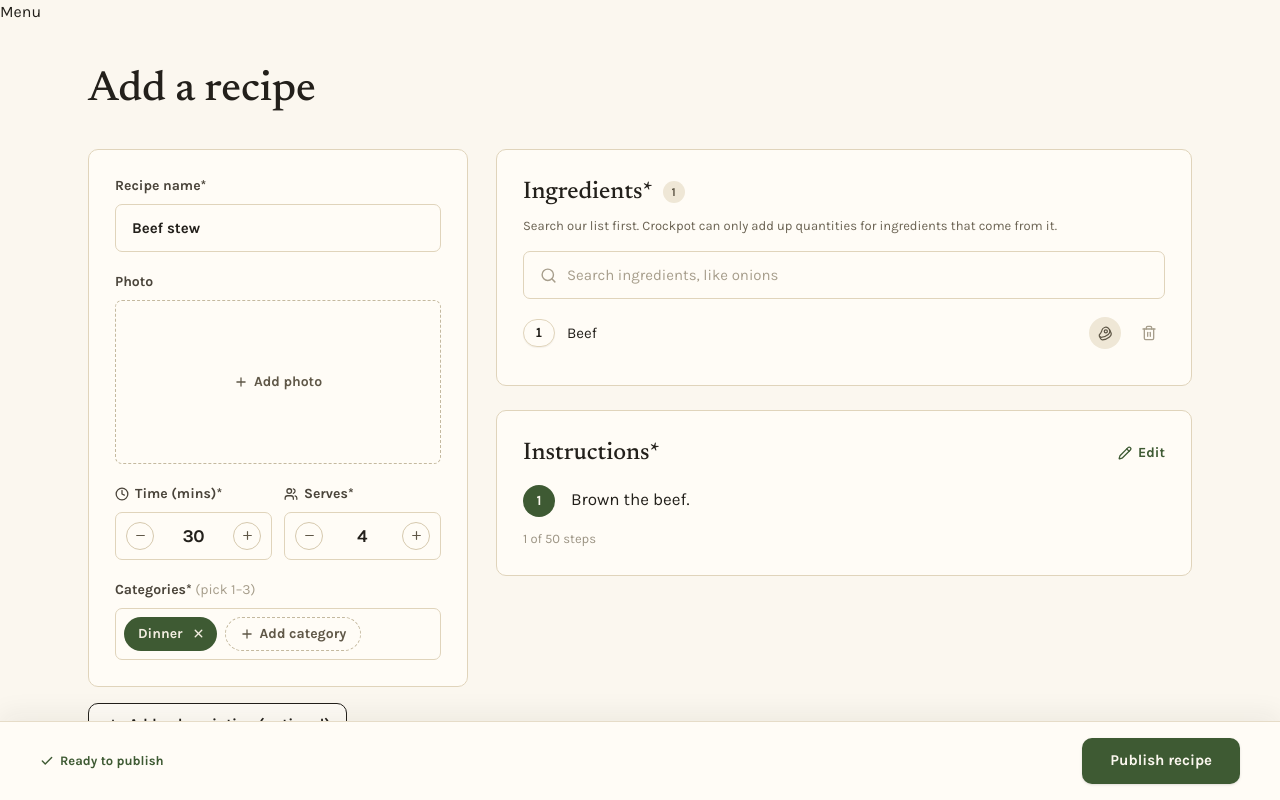
Test: RecipeForm leave prompt › asks before leaving unsaved changes, and Cancel keeps you editing
Type " pie" into the field labelled "Recipe name*" at point(278, 228), box [115,204,441,252]
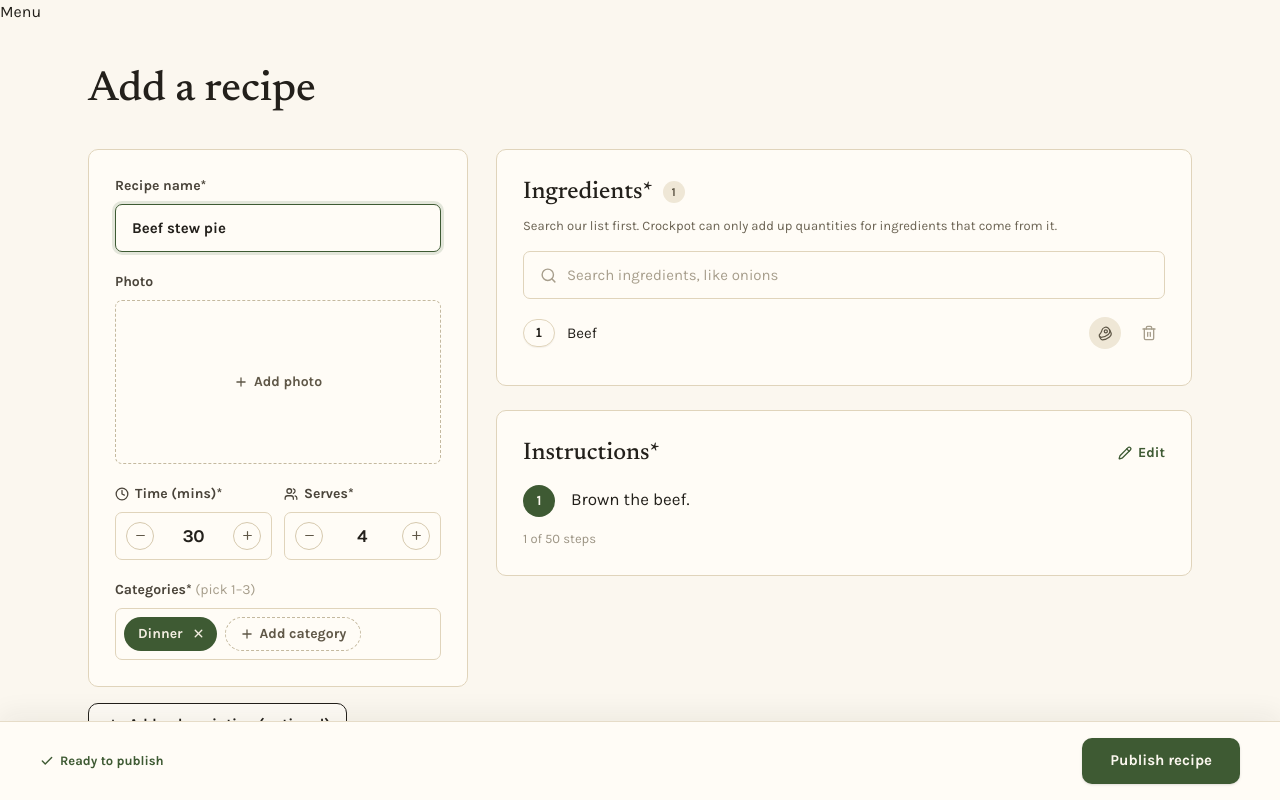
Click the link "Menu" at point(21, 12), box [0,2,41,21]
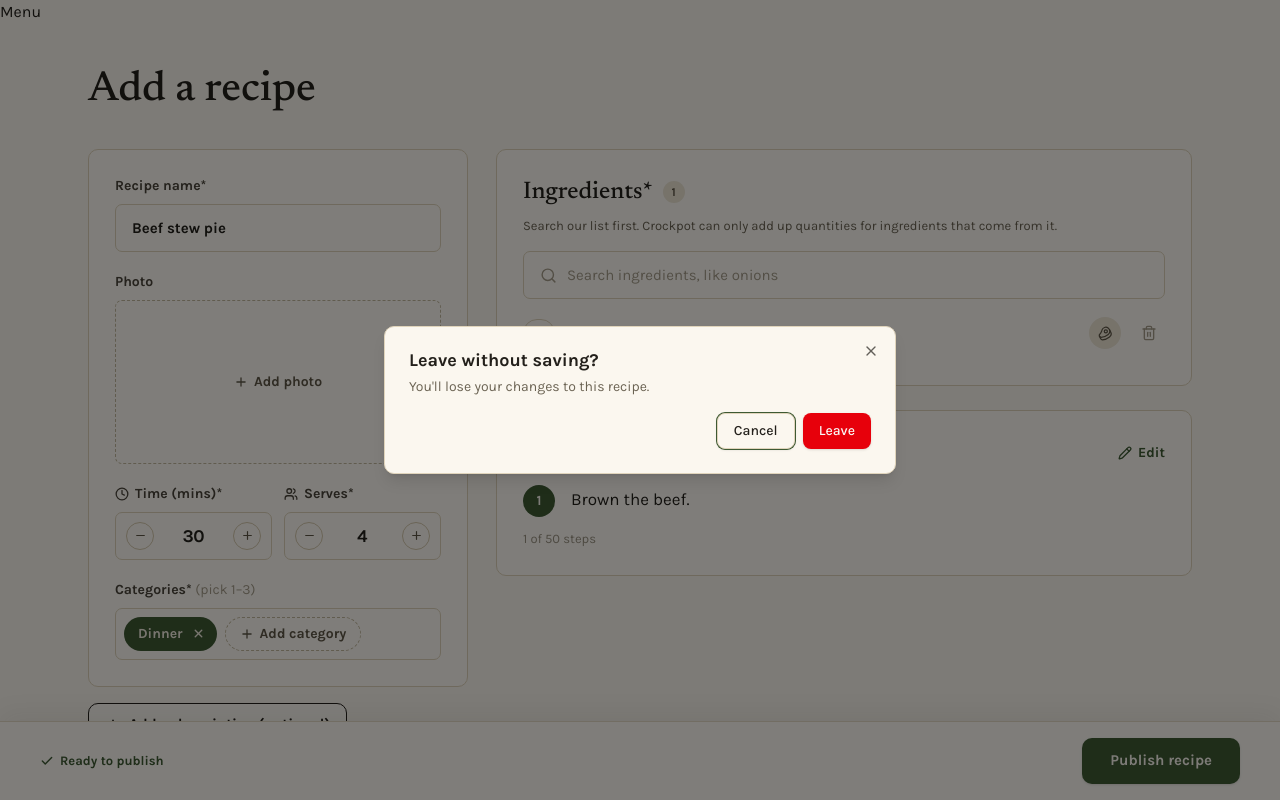
Click the button "Cancel" at point(756, 431), box [717,413,795,449]
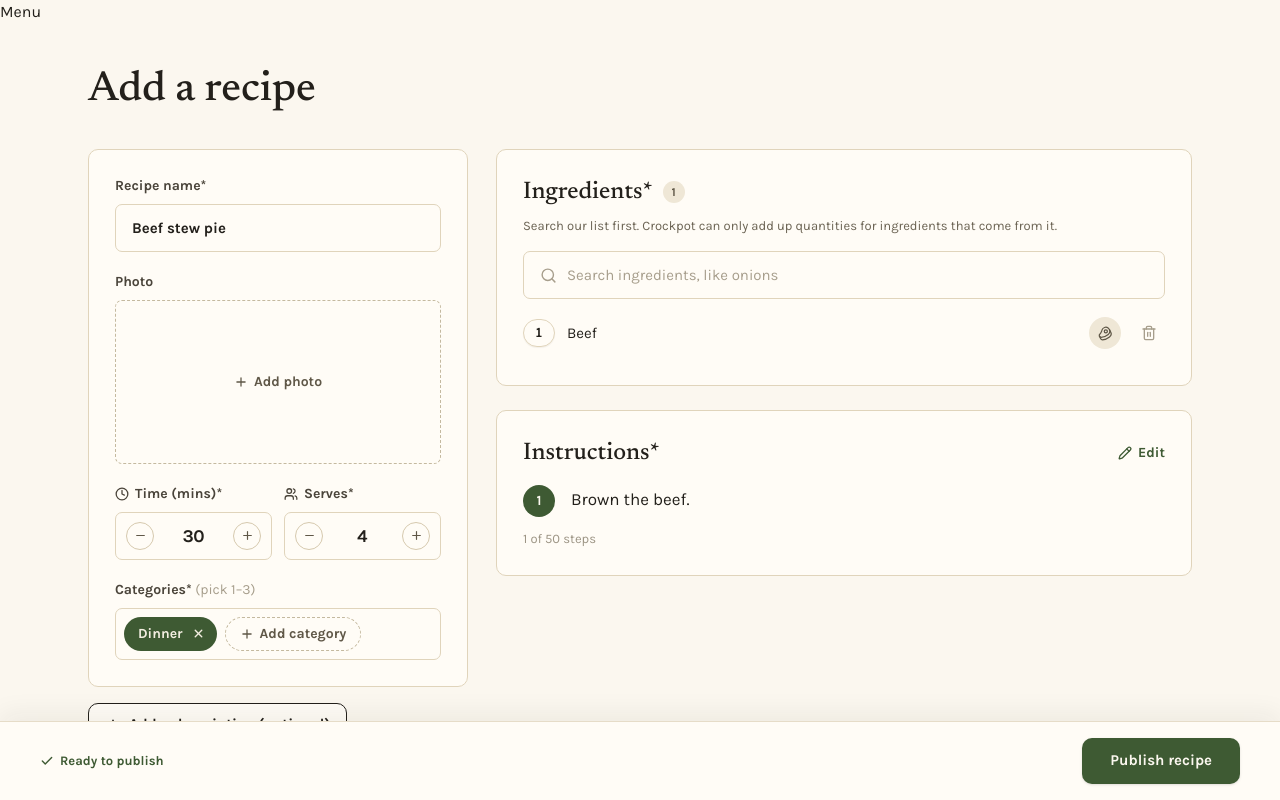
Expected: the field labelled "Recipe name*" holds "Beef stew pie", [115,204,441,252]
Expected: the heading "Leave without saving?" is gone
